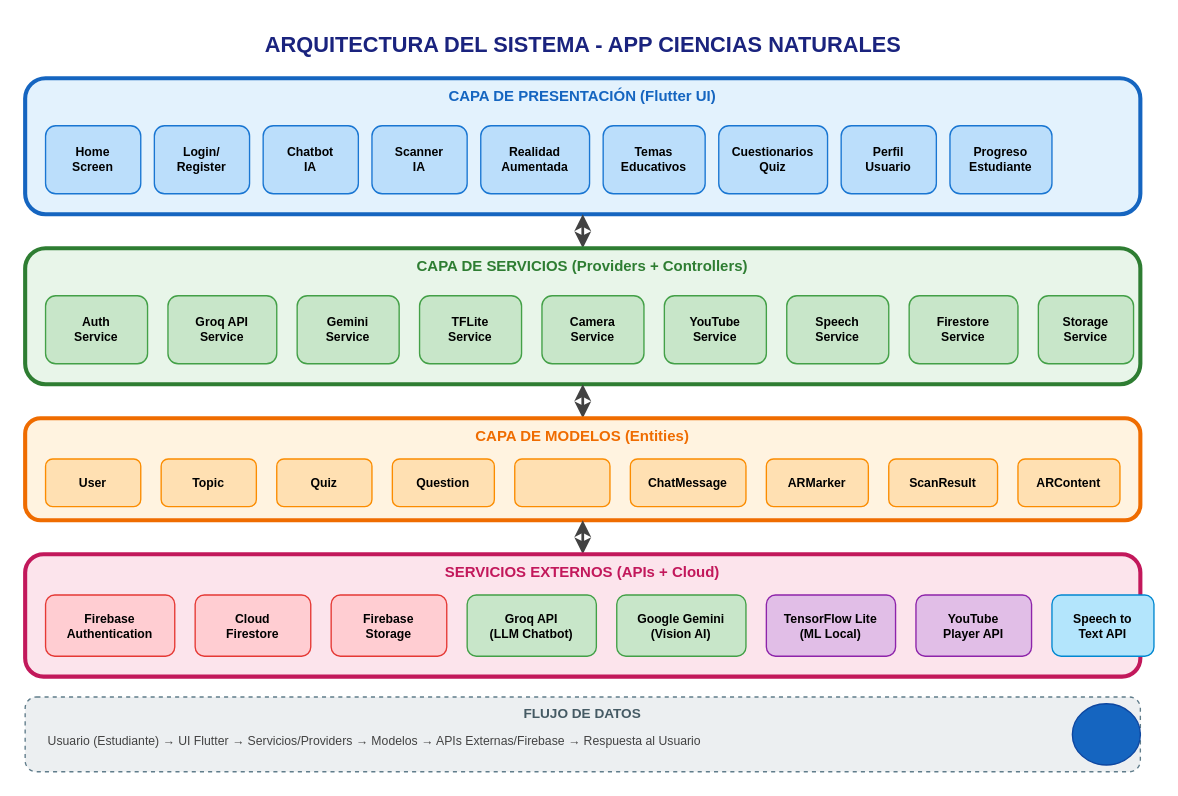
Some shapes in this 1178 by 796 pixel diagram are drawn without their labels. Each missing label, with the centre of its shape:
"Flutter 3.7.2" goes at (x=1105, y=733).
"Progress" goes at (x=561, y=482).
